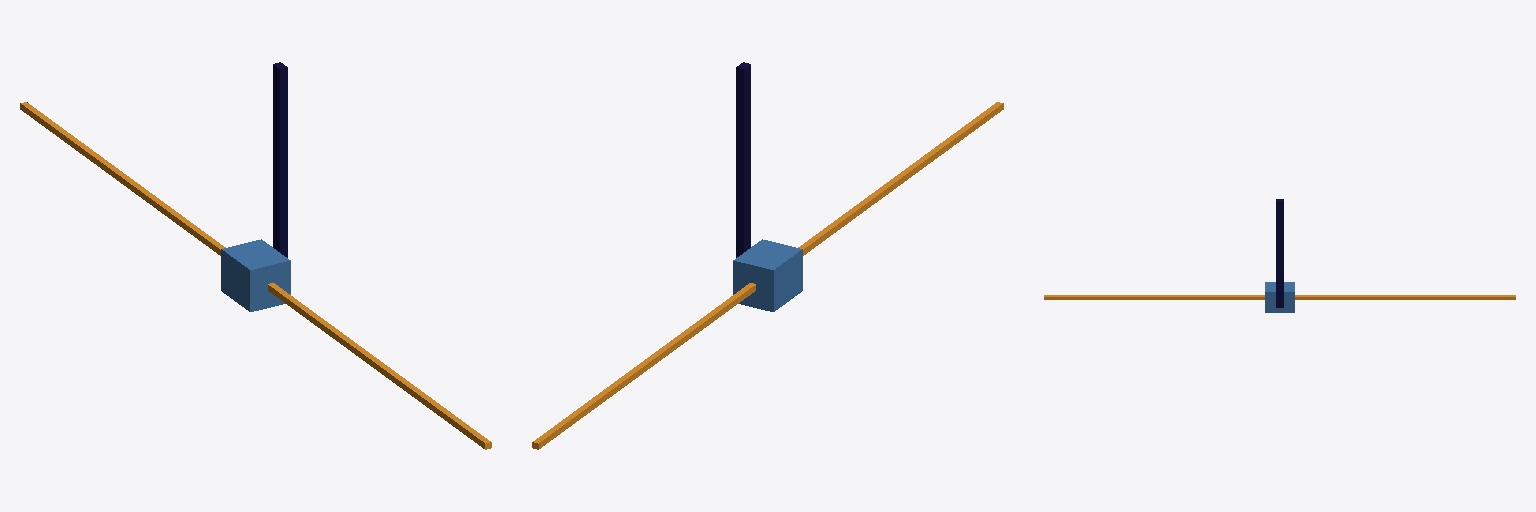
URDF robot description (cartpole):
<?xml version="1.0"?>
<robot name="cartpole">

    <link name="slider">
    <visual>
      <geometry>
        <box size="0.03 4 0.03"/>
      </geometry>
      <material name="slider_mat">
        <color rgba="0.9 0.6 0.2 1"/>
      </material>
    </visual>
    <collision>
      <geometry>
        <box size="0.03 4 0.03"/>
      </geometry>
    </collision>
  </link>

  <link name="cart">
    <visual>
      <geometry>
        <box size="0.2 0.25 0.2"/>
      </geometry>
      <material name="cart_mat">
        <color rgba="0.3 0.5 0.7 1"/>
      </material>
    </visual>
    <collision>
      <geometry>
          <box size="0.2 0.25 0.2"/>
      </geometry>
    </collision>
    <inertial>
      <mass value="1"/>
    </inertial>
  </link>

  <link name="pole">
    <visual>
      <geometry>
        <box size="0.04 0.06 1.0"/>	
      </geometry>
      <origin xyz="0 0 0.47"/>
      <material name="pole_mat">
        <color rgba="0.1 0.1 0.3 1"/>
      </material>
    </visual>
    <collision>
      <geometry>
        <box size="0.04 0.06 1.0"/>	
      </geometry>
      <origin xyz="0 0 0.47"/>
    </collision>
    <inertial>
      <mass value="1"/>
      <origin xyz="0 0 0.47"/>
    </inertial>
  </link>

  <joint name="slider_to_cart" type="prismatic">
    <axis xyz="0 1 0"/>
    <origin xyz="0 0 0"/>
    <parent link="slider"/>
    <child link="cart"/>
    <limit effort="1000.0" lower="-2" upper="2" velocity="100"/>
  </joint>

  <joint name="cart_to_pole" type="continuous">
    <axis xyz="1 0 0"/>
    <origin xyz="0.12 0 0"/>
    <parent link="cart"/>
    <child link="pole"/>
    <limit effort="1000.0" velocity="8"/>
  </joint>
  
</robot>

--- Facts derived from the render (not from the file) ---
The picture shows the robot from 3 angles, left to right: view 1: azimuth 30°, elevation 25°; view 2: azimuth 150°, elevation 25°; view 3: azimuth 270°, elevation 25°; orthographic projection.
Robot: cartpole — 3 links, 2 joints (1 continuous, 1 prismatic); root link slider; default pose: all joints at 0.
Links seen in each view (by area): view 1: slider, cart, pole; view 2: slider, cart, pole; view 3: slider, pole, cart.
Boxes of the visible links, box(x1,y1,x2,y2) form: slider: box(20, 102, 491, 449); cart: box(221, 239, 290, 311); pole: box(273, 62, 287, 257); slider: box(532, 102, 1003, 449); cart: box(733, 239, 802, 311); pole: box(736, 62, 750, 257); slider: box(1044, 295, 1515, 299); pole: box(1276, 199, 1283, 307); cart: box(1265, 282, 1294, 312).
Size in the robot's own frame: 0.24 by 4 by 1.07 metres.
Geometry: primitives only (box / cylinder / sphere), no mesh files.